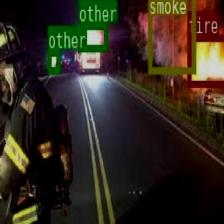fire: (186, 34, 224, 86)
smoke: (148, 0, 194, 72)
